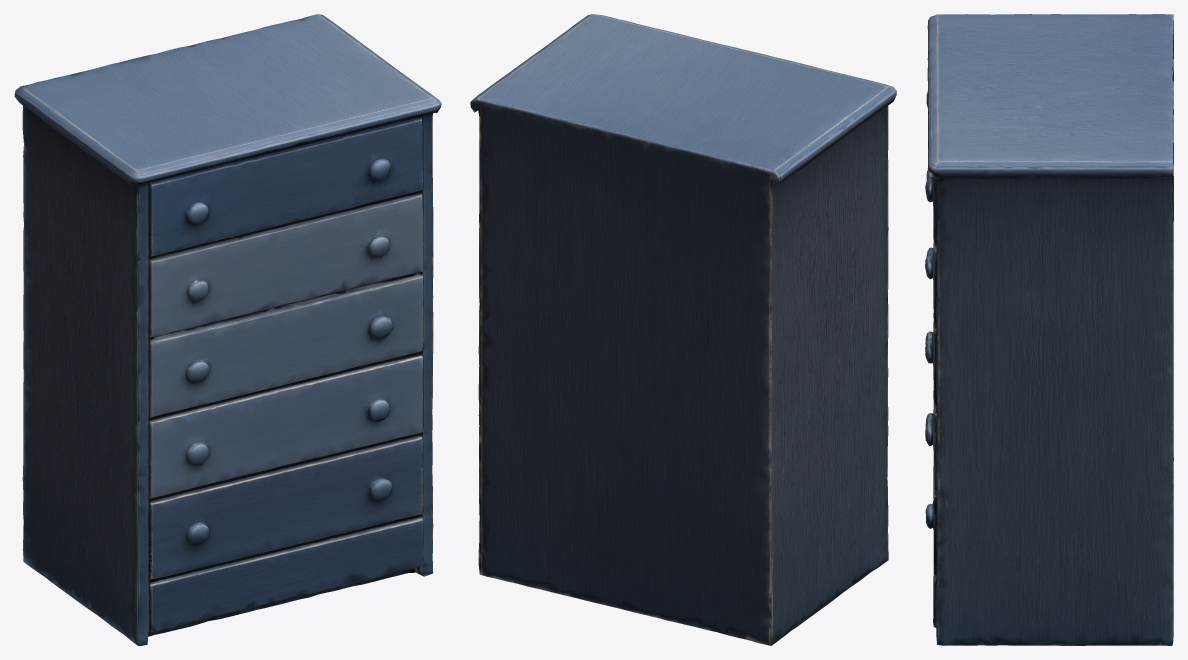
File: VAR_Bedroom_Dresser.fbx
3 views of the same model, side by side, from view 1: azimuth 30°, elevation 25°; view 2: azimuth 150°, elevation 25°; view 3: azimuth 270°, elevation 25° (orthographic).
Parts seen in each view (by area): view 1: texture_mapping; view 2: texture_mapping; view 3: texture_mapping.
Part boxes in pixels (x1,y1,x2,y2): texture_mapping: (14,14,441,645); texture_mapping: (470,14,896,645); texture_mapping: (925,14,1173,645).
Size of the model in its own units: 0.6825 by 0.4648 by 1.
Materials: 1 (1 with a texture image).
